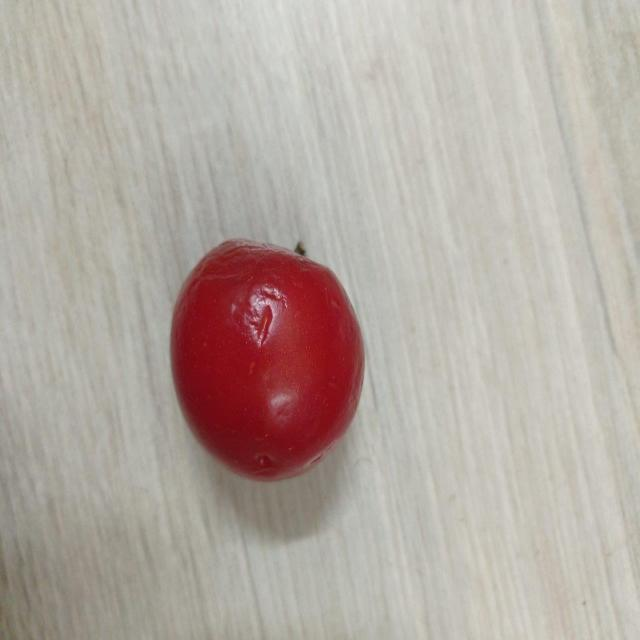overripe: (170, 234, 369, 483)
